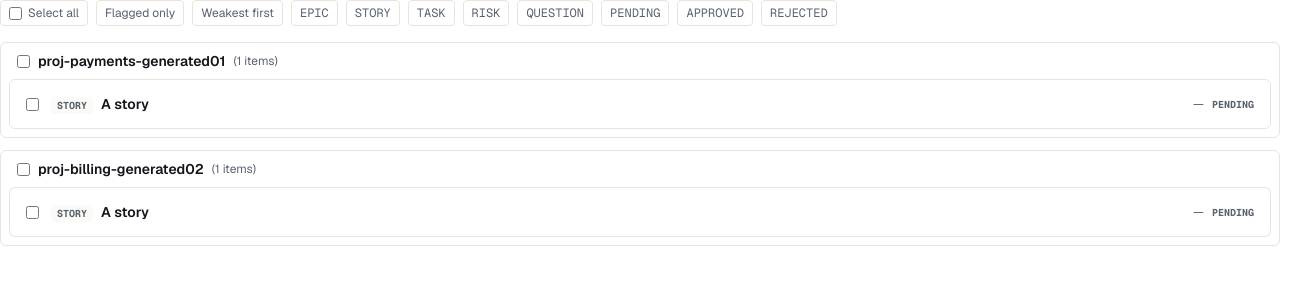
Test: ReviewQueue run grouping › global select-all selects items across every group, and toggling again clears it
Click the checkbox labelled "Select all" at (16, 13), box [9,6,22,20]
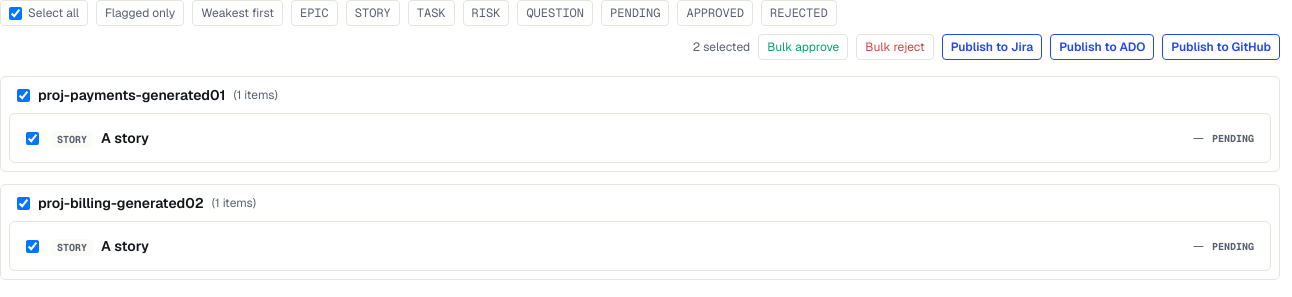
Expected: the text "2 selected" is shown, [693,39,750,55]
Click the checkbox labelled "Select all" at (16, 13), box [9,6,22,20]
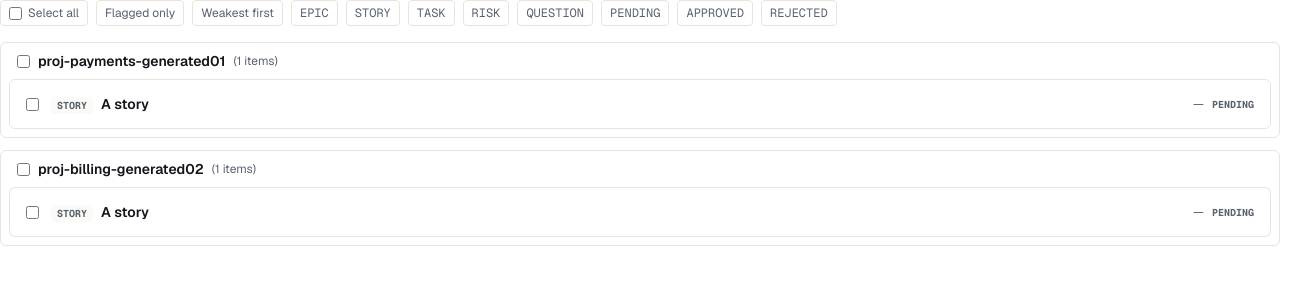
Expected: the text "selected" is gone
